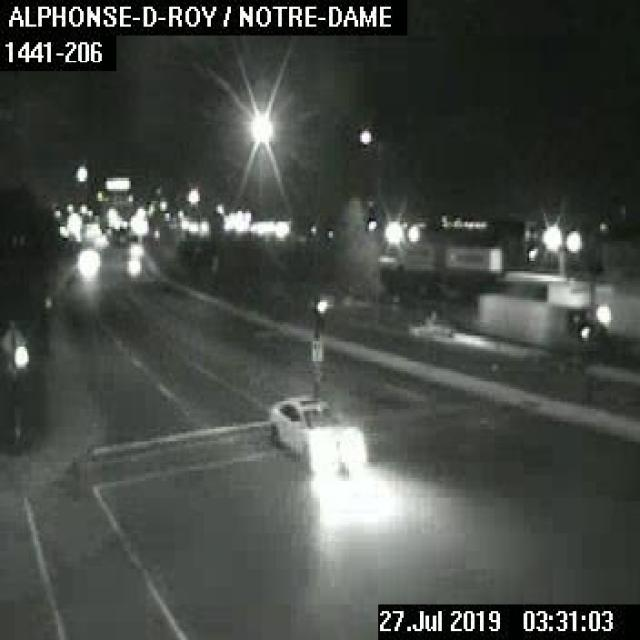vehicle: (266, 391, 366, 478), (73, 247, 99, 273), (122, 255, 142, 278)
